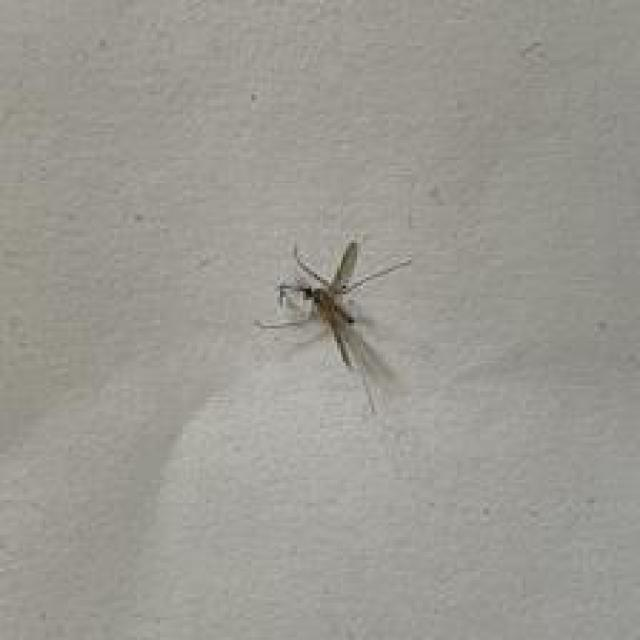Culex: (253, 238, 413, 416)
